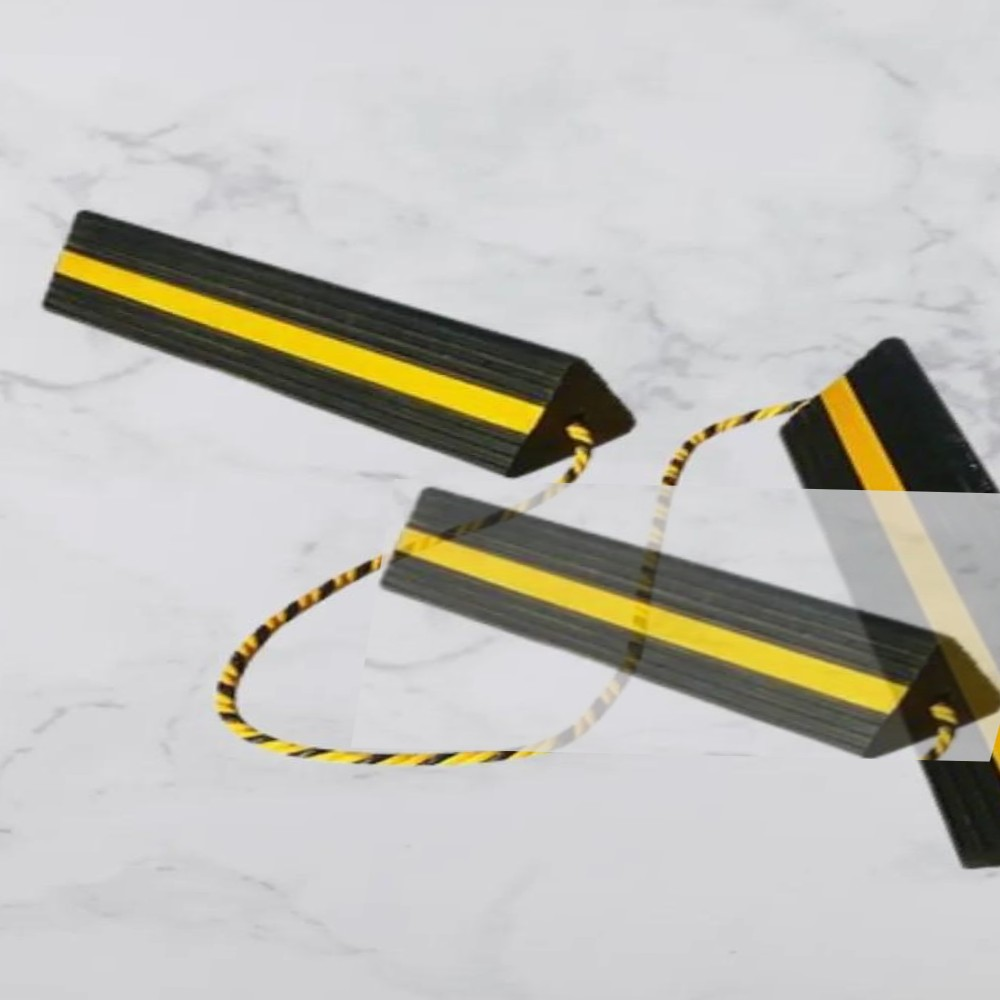chock: (351, 479, 1000, 762), (22, 203, 677, 481), (681, 325, 1000, 882)
